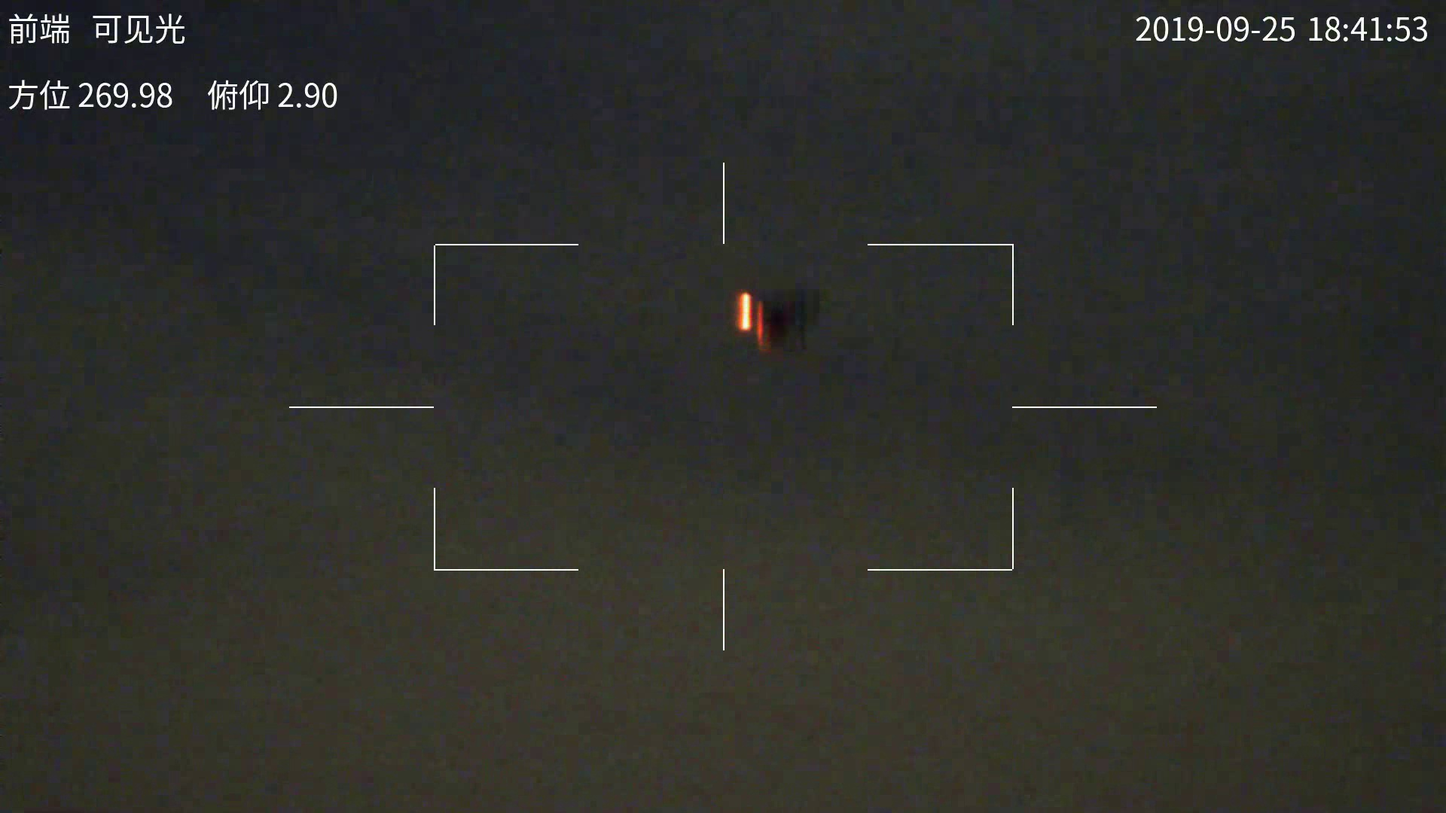drone_other: (726, 284, 831, 346)
